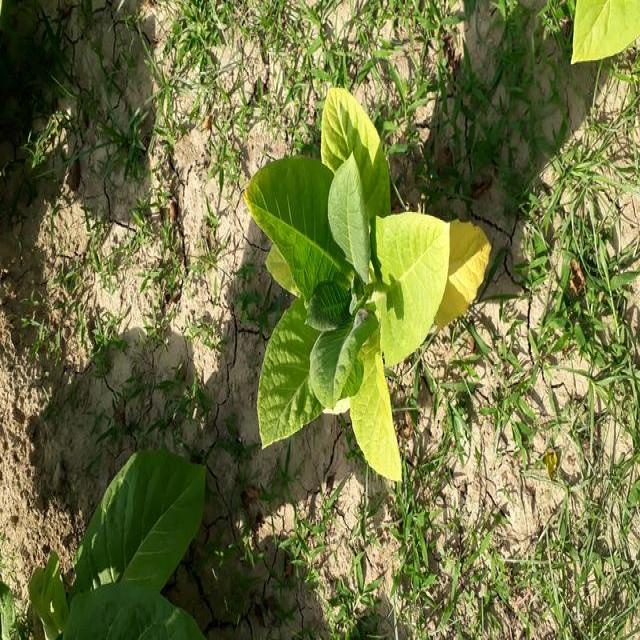crop: (245, 84, 490, 484), (22, 451, 210, 640), (570, 0, 640, 79)
